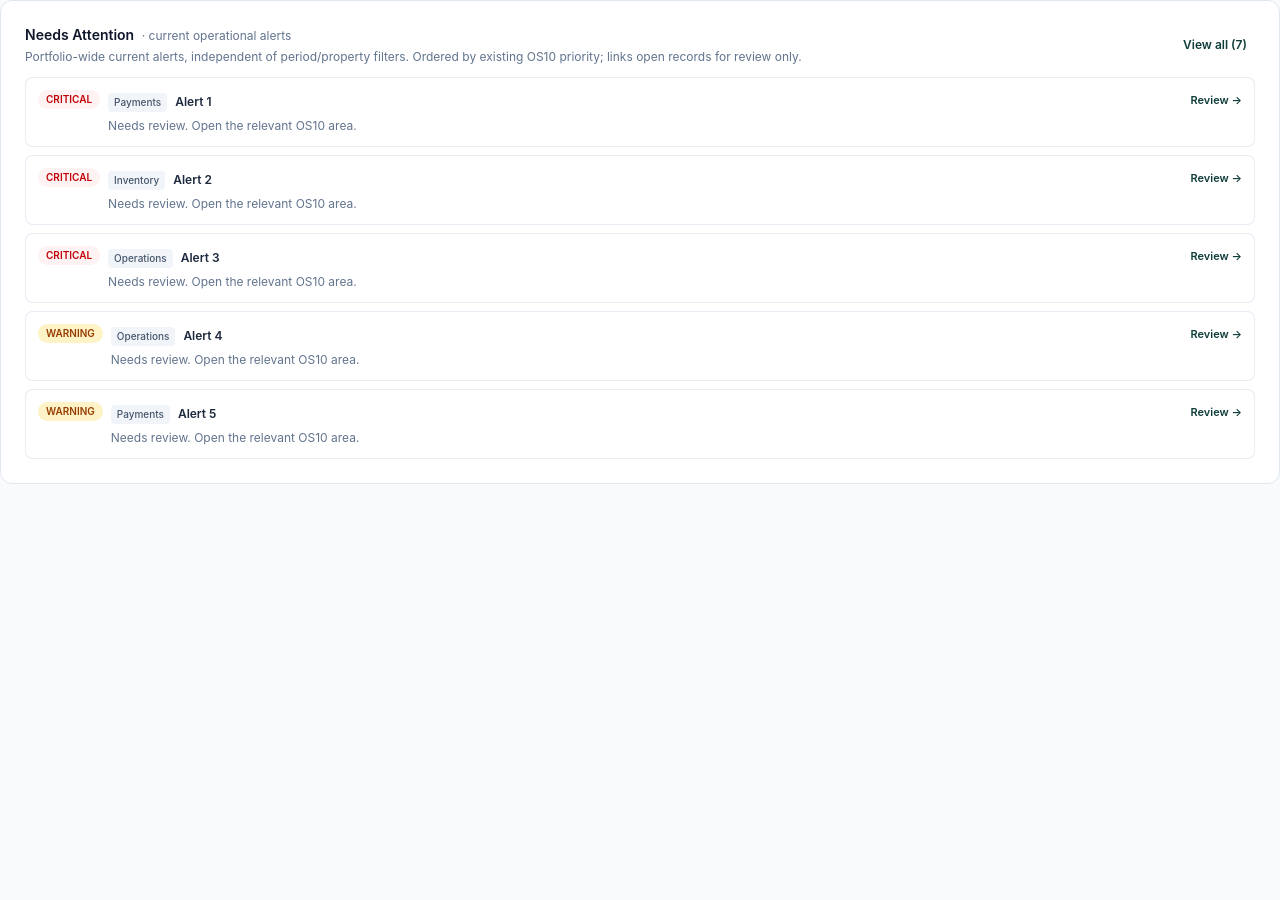
AI Strategist presentation › shows the first five priority-ordered alerts, groups supported categories, and expands to all
The image size is (1280, 900).
Expected: the text "Payments" next to "Alert 1" is shown, [114, 96, 161, 108]
Expected: the text "Inventory" is shown, [108, 171, 165, 190]
Click the button "View all (7)" at x=1215, y=45, box [1175, 33, 1255, 57]
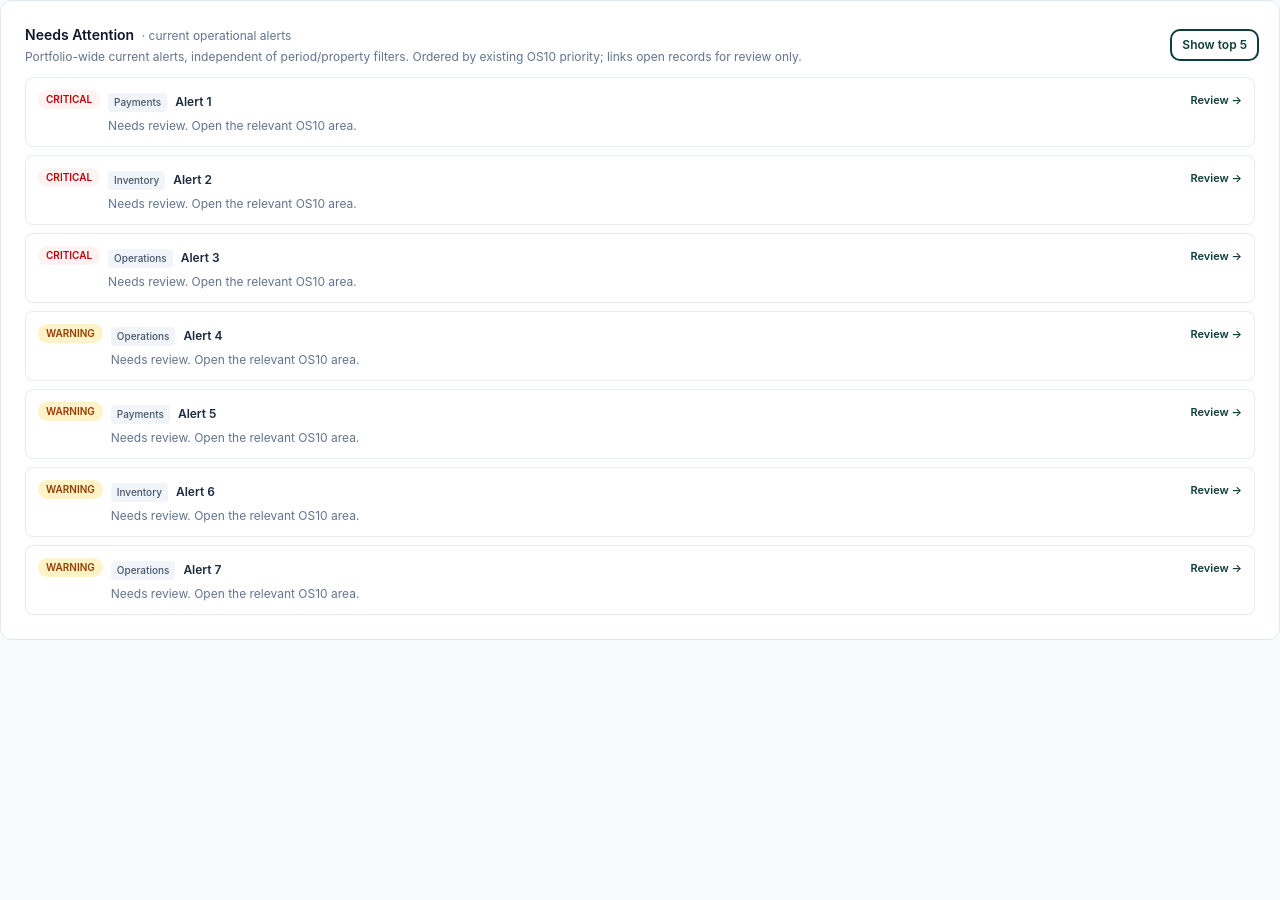
Now the number of links is 7
Now the text "Alert 7" is shown, box [183, 562, 222, 577]
